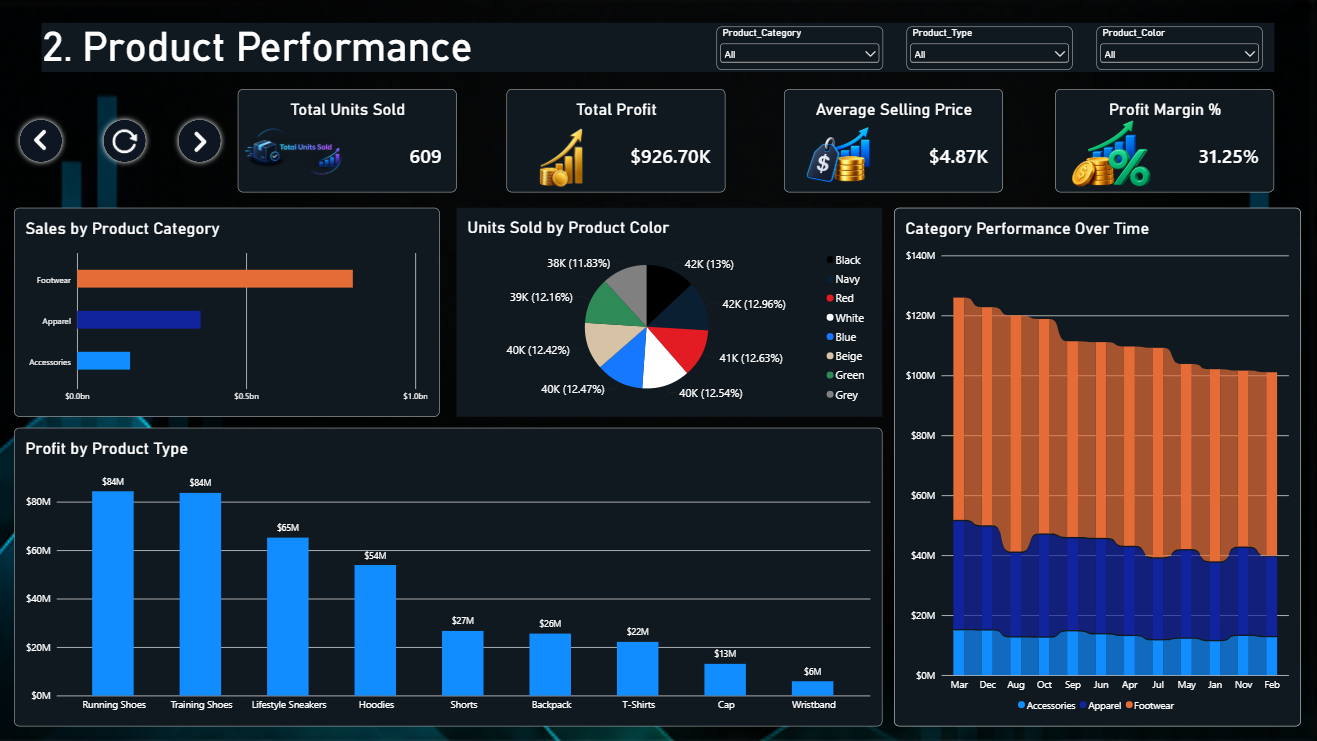

This screenshot's page, from the dashboard's own definition file:
{"tool":"powerbi","page":{"name":"Product Performance","canvas":[1920,1080],"ordinal":1},"visuals":[{"type":"shape","box":[61.5,34.4,1793.3,71.7],"z":0},{"type":"textbox","title":"2. Product Performance","box":[61.5,34.4,637,72.4],"z":1000},{"type":"kpi","title":"Average Selling Price","fields":{"Indicator":["Sales and revenue measures.Average Selling Price"],"TrendLine":["Calendar.Date"]},"box":[1141.9,130.3,318.5,150.2],"z":2000},{"type":"kpi","title":"Total Profit","fields":{"Indicator":["Sales and revenue measures.Total Profit"],"TrendLine":["Calendar.Date"]},"box":[738.3,130.3,318.5,150.2],"z":3000},{"type":"kpi","title":"Profit Margin %","fields":{"Indicator":["Profitability measures.Profit Margin %"],"TrendLine":["Calendar.Date"]},"box":[1536.4,130.3,318.5,150.2],"z":4000},{"type":"kpi","title":"Total Units Sold","fields":{"Indicator":["Sales and revenue measures.Total Units Sold"],"TrendLine":["Calendar.Date"]},"box":[347.5,130.3,318.5,150.2],"z":5000},{"type":"clusteredBarChart","title":"Sales by Product Category","fields":{"Category":["Project.Product_Category"],"Y":["Sales and revenue measures.Total Sales Revenue"]},"box":[21.7,304,618.9,304],"z":6000},{"type":"clusteredColumnChart","title":"Profit by Product Type","fields":{"Category":["Project.Product_Type"],"Y":["Sales and revenue measures.Total Profit"]},"box":[21.7,624.3,1263.1,434.3],"z":7000},{"type":"pieChart","title":"Units Sold by Product Color","fields":{"Category":["Project.Product_Color"],"Y":["Sales and revenue measures.Total Units Sold"]},"box":[666,304,618.9,304],"z":8000},{"type":"slicer","fields":{"Values":["Project.Product_Color"]},"box":[1596.1,39.8,241.7,63.3],"z":9000},{"type":"shape","box":[253.3,166.5,78.2,78.2],"z":9000,"group":"g3"},{"type":"slicer","fields":{"Values":["Project.Product_Type"]},"box":[1319.2,39.8,241.7,63.3],"z":10000},{"type":"shape","box":[143,166.5,78.2,78.2],"z":10000,"group":"g2"},{"type":"slicer","fields":{"Values":["Project.Product_Category"]},"box":[1044.2,39.8,242.5,63.3],"z":11000},{"type":"shape","box":[21.7,166.5,78.2,78.2],"z":11000,"group":"g1"},{"type":"image","box":[155.7,177.4,52.7,58.2],"z":12000,"group":"g2"},{"type":"ribbonChart","title":"Category Performance Over Time","fields":{"Category":["Calendar.Month"],"Series":["Project.Product_Category"],"Y":["Sales and revenue measures.Total Sales Revenue"]},"box":[1301.1,304,591.8,754.6],"z":12000},{"type":"group","id":"g1","title":"Group 1","box":[14.5,159.3,92.7,92.7],"z":13000},{"type":"image","box":[246.1,159.3,92.7,92.7],"z":13000,"group":"g3"},{"type":"image","box":[14.5,159.3,92.7,92.7],"z":14000,"group":"g1"},{"type":"group","id":"g2","title":"Group 2","box":[143,166.5,78.2,78.2],"z":14000},{"type":"group","id":"g3","title":"Group 3","box":[246.1,159.3,92.7,92.7],"z":15000},{"type":"image","box":[348,168,160,110.9],"z":16000},{"type":"image","box":[738,172,159.3,110.4],"z":17000},{"type":"image","box":[1142,172,159.3,110.4],"z":18000},{"type":"image","box":[1536,172,159.3,110.4],"z":19000}]}

Visuals, with their boxes in screenshot pixels (x1, y1, x2, y2), scaled from the page's 1920x1080 canvas onto the 1317x741 screenshot:
shape: <bbox>42, 24, 1272, 73</bbox>
"2. Product Performance" textbox: <bbox>42, 24, 479, 73</bbox>
"Average Selling Price" kpi: <bbox>783, 89, 1002, 192</bbox>
"Total Profit" kpi: <bbox>506, 89, 725, 192</bbox>
"Profit Margin %" kpi: <bbox>1054, 89, 1272, 192</bbox>
"Total Units Sold" kpi: <bbox>238, 89, 457, 192</bbox>
"Sales by Product Category" clusteredBarChart: <bbox>15, 209, 439, 417</bbox>
"Profit by Product Type" clusteredColumnChart: <bbox>15, 428, 881, 726</bbox>
"Units Sold by Product Color" pieChart: <bbox>457, 209, 881, 417</bbox>
slicer - Project.Product_Color: <bbox>1095, 27, 1261, 71</bbox>
shape: <bbox>174, 114, 227, 168</bbox>
slicer - Project.Product_Type: <bbox>905, 27, 1071, 71</bbox>
shape: <bbox>98, 114, 152, 168</bbox>
slicer - Project.Product_Category: <bbox>716, 27, 883, 71</bbox>
shape: <bbox>15, 114, 69, 168</bbox>
image: <bbox>107, 122, 143, 162</bbox>
"Category Performance Over Time" ribbonChart: <bbox>892, 209, 1298, 726</bbox>
"Group 1" group: <bbox>10, 109, 74, 173</bbox>
image: <bbox>169, 109, 232, 173</bbox>
image: <bbox>10, 109, 74, 173</bbox>
"Group 2" group: <bbox>98, 114, 152, 168</bbox>
"Group 3" group: <bbox>169, 109, 232, 173</bbox>
image: <bbox>239, 115, 348, 191</bbox>
image: <bbox>506, 118, 615, 194</bbox>
image: <bbox>783, 118, 893, 194</bbox>
image: <bbox>1054, 118, 1163, 194</bbox>
